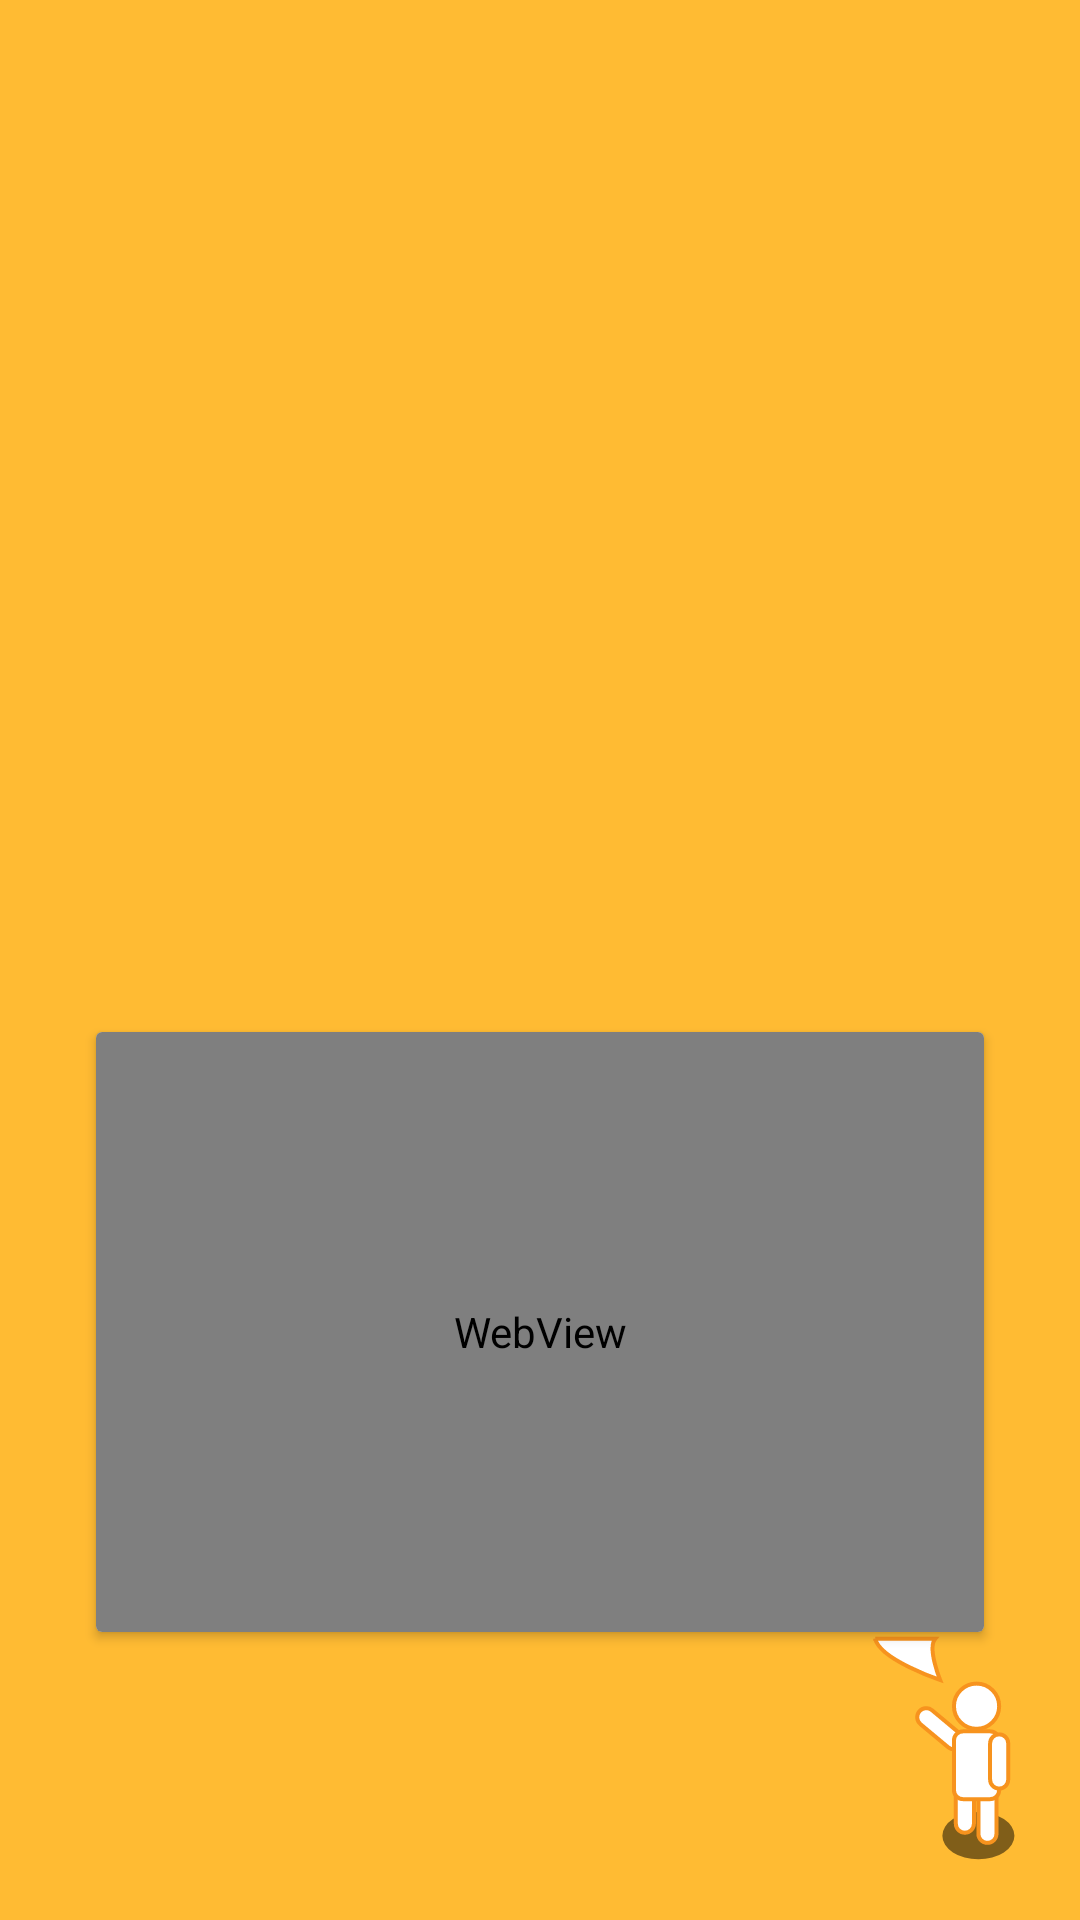

Icon bounding boxes for this 1080*1920 phone screenshot, format BBox(x1, y1, x2, y2):
people say: BBox(915, 1682, 1015, 1860)
